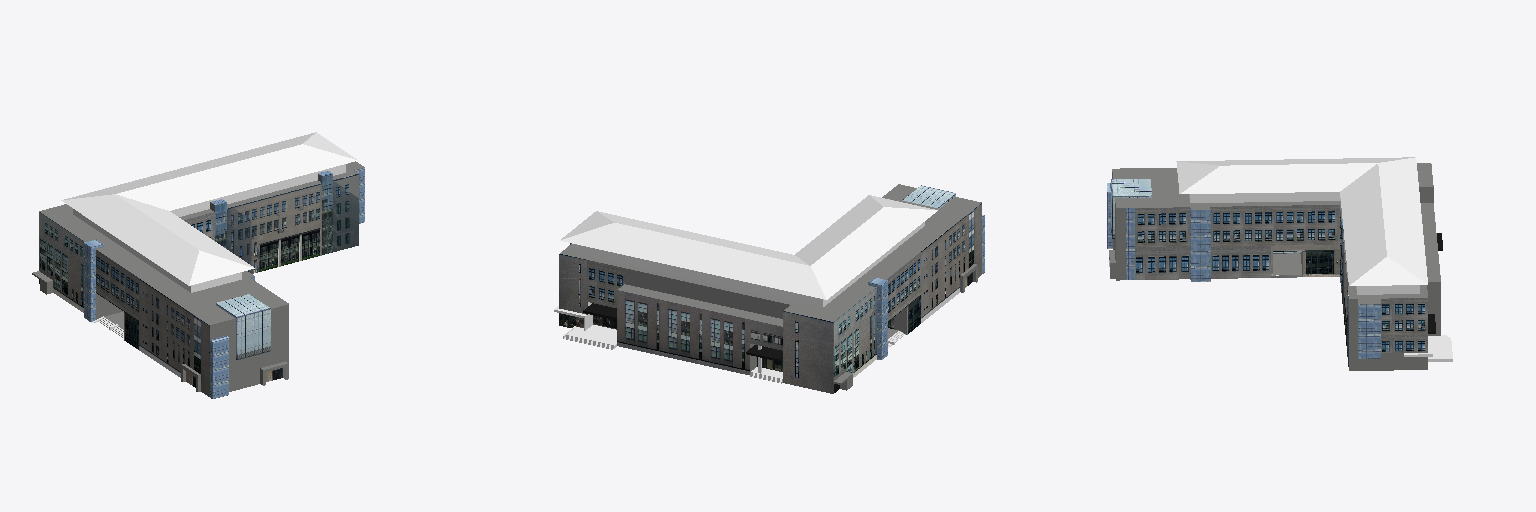
3 views of the same model, side by side, from view 1: azimuth 30°, elevation 25°; view 2: azimuth 150°, elevation 25°; view 3: azimuth 270°, elevation 25° (orthographic).
Parts seen in each view (by area): view 1: Mesh1 G_2_1 Model; view 2: Mesh1 G_2_1 Model; view 3: Mesh1 G_2_1 Model.
Part boxes in pixels (x1,y1,x2,y2): Mesh1 G_2_1 Model: (32, 132, 364, 398); Mesh1 G_2_1 Model: (554, 184, 984, 393); Mesh1 G_2_1 Model: (1107, 157, 1452, 370).
Size of the model in its own units: 108 by 33.49 by 109.
21 materials, 18 textured.